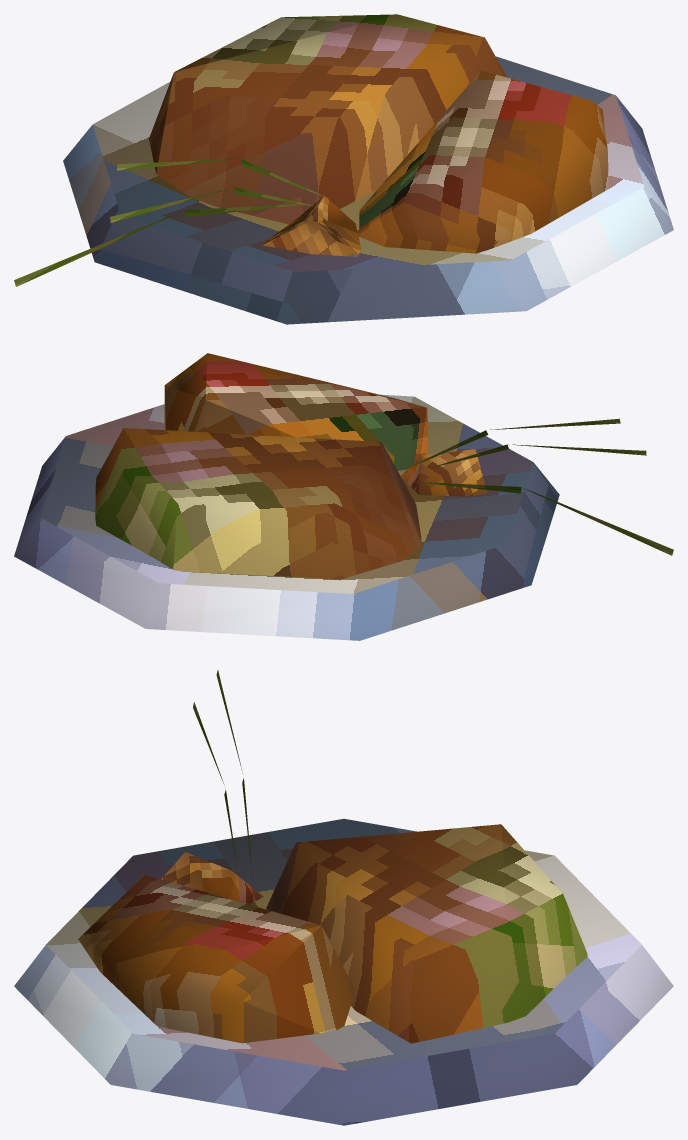
File: edb_con_dish_casserole_full_l2.fbx
The picture shows the model from 3 angles, top to bottom: view 1: azimuth 30°, elevation 25°; view 2: azimuth 150°, elevation 25°; view 3: azimuth 270°, elevation 25°; orthographic projection. The views are drawn at different scales.
Parts seen in each view (by area): view 1: mesh_node; view 2: mesh_node; view 3: mesh_node.
Boxes of the visible parts, <box> form: mesh_node: <box>14,14,673,324</box>; mesh_node: <box>14,353,673,640</box>; mesh_node: <box>14,670,673,1125</box>.
Bounding box in the file's own units: 0.482 × 0.1045 × 0.3955.
